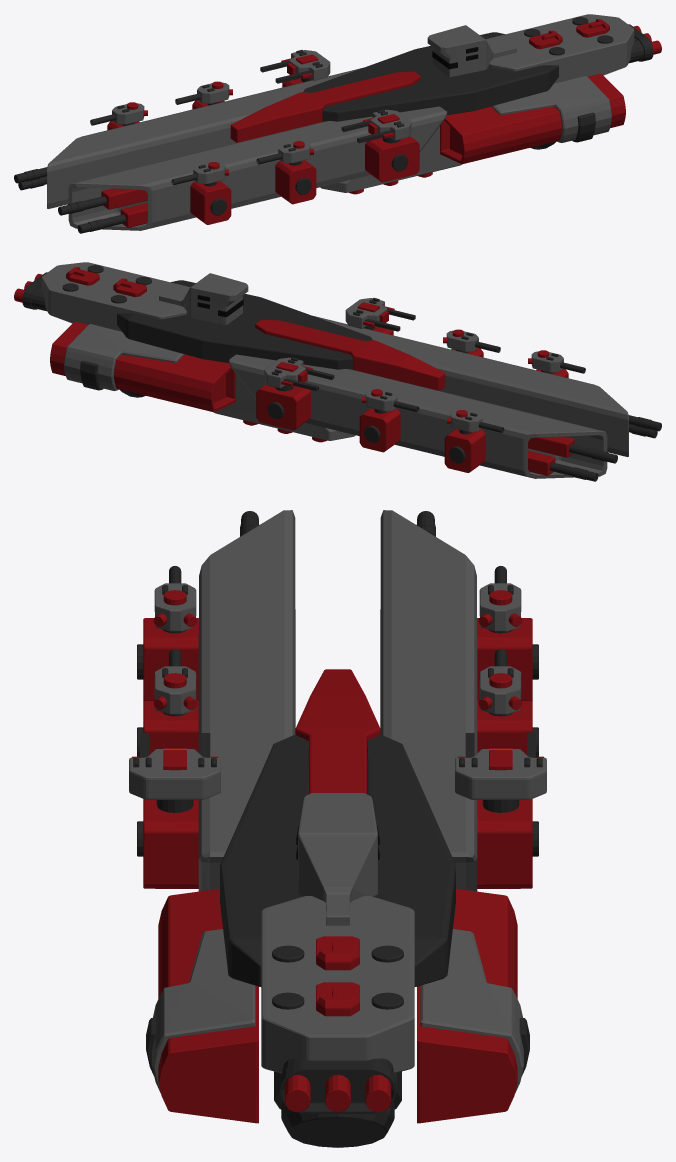
File: fga_destroyer3.glb
The picture shows the model from 3 angles, top to bottom: view 1: azimuth 30°, elevation 25°; view 2: azimuth 150°, elevation 25°; view 3: azimuth 270°, elevation 25°; orthographic projection. The views are drawn at different scales.
Parts seen in each view (by area): view 1: Destroyer_3002; view 2: Destroyer_3002; view 3: Destroyer_3002.
Part boxes in pixels (x1,y1,x2,y2): Destroyer_3002: (14, 14, 661, 233); Destroyer_3002: (14, 262, 661, 481); Destroyer_3002: (129, 510, 546, 1147).
Bounding box in the file's own units: 10665 × 2194 × 3160.
Materials: 1 (1 with a texture image).
